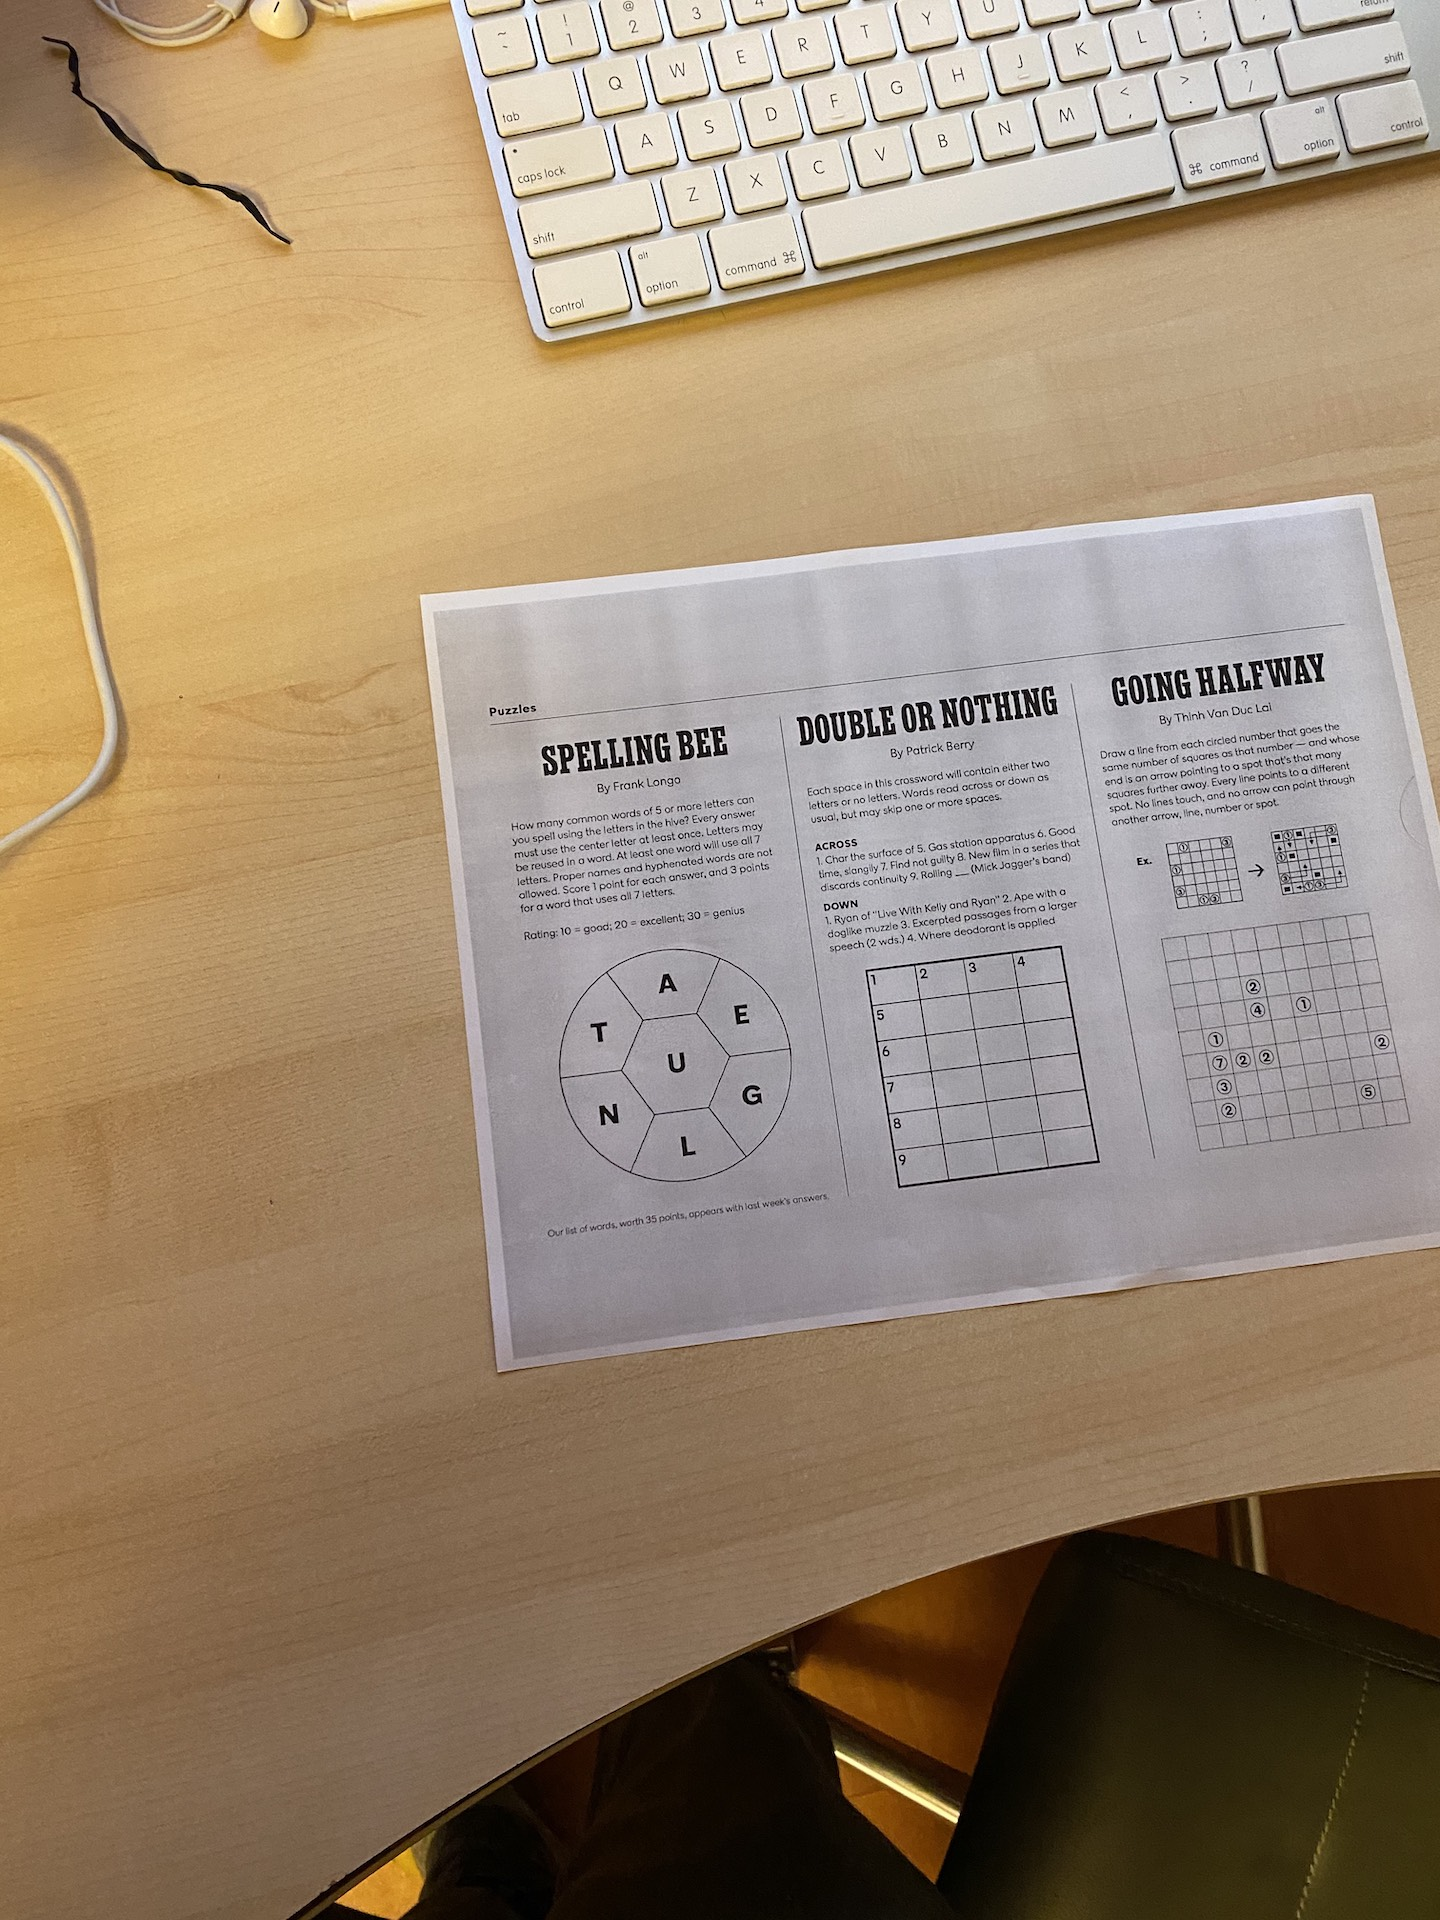PrintBoard: (538, 940, 802, 1193)
